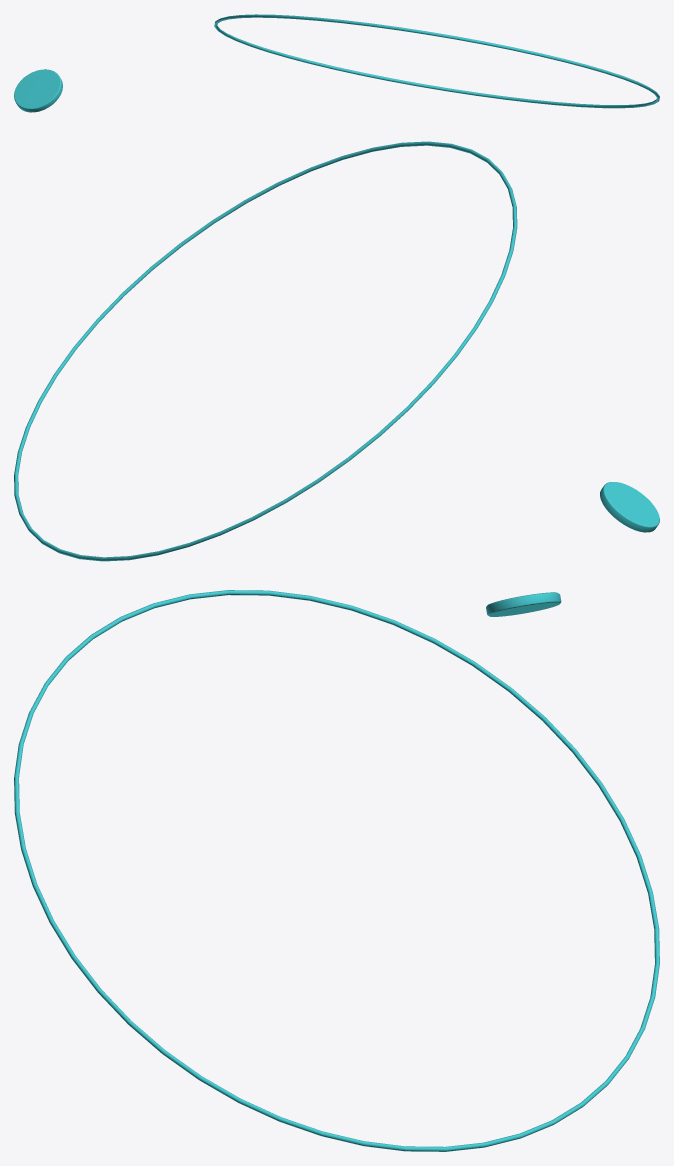
File: SM_Big_Burger_Ring_01.FBX
3 renders of one model, top to bottom at view 1: azimuth 30°, elevation 25°; view 2: azimuth 150°, elevation 25°; view 3: azimuth 270°, elevation 25°, orthographic. The views are drawn at different scales.
Parts seen in each view (by area): view 1: SM_Big_Burger_Ring_01_LOD0; view 2: SM_Big_Burger_Ring_01_LOD0; view 3: SM_Big_Burger_Ring_01_LOD0.
Part boxes in pixels (x1,y1,x2,y2): SM_Big_Burger_Ring_01_LOD0: (14,14,659,112); SM_Big_Burger_Ring_01_LOD0: (14,141,659,561); SM_Big_Burger_Ring_01_LOD0: (14,590,659,1151).
Bounding box in the file's own units: 317 × 214 × 126.
